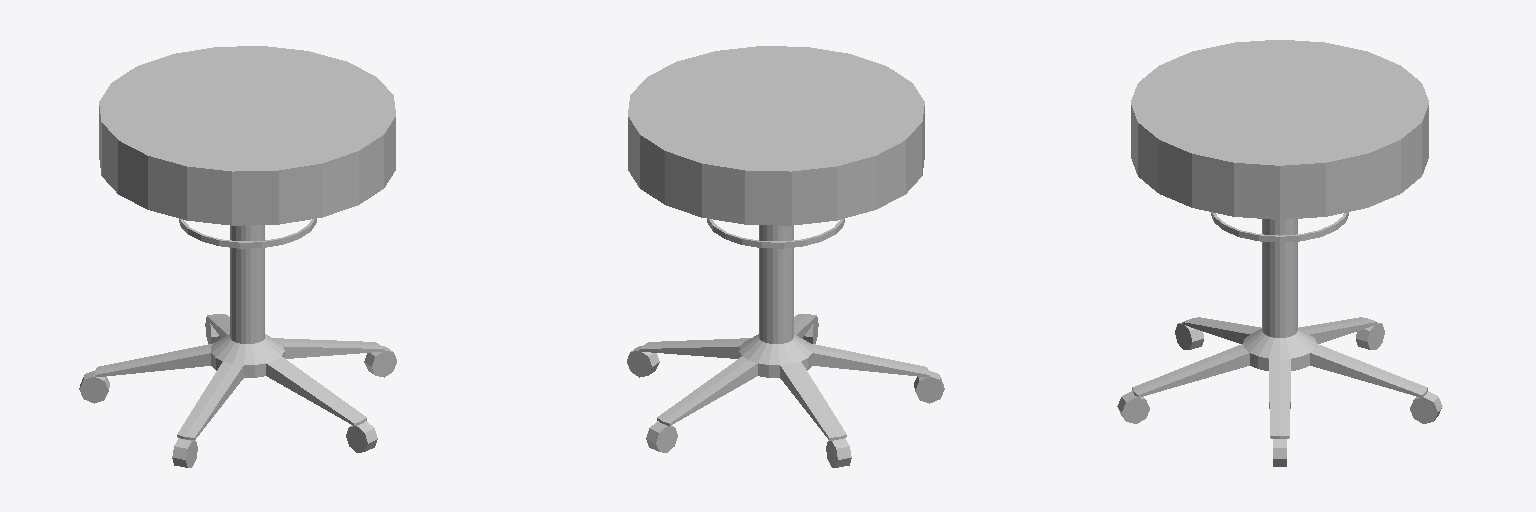
File: chair.obj
The picture shows the model from 3 angles: view 1: azimuth 30°, elevation 25°; view 2: azimuth 150°, elevation 25°; view 3: azimuth 270°, elevation 25°; orthographic projection.
Visible parts, largest first — view 1: Chair_Cylinder; view 2: Chair_Cylinder; view 3: Chair_Cylinder.
Part boxes in pixels (x1,y1,x2,y2): Chair_Cylinder: (79,46,396,467); Chair_Cylinder: (627,46,944,467); Chair_Cylinder: (1117,40,1442,466).
Bounding box in the file's own units: 0.5321 × 0.5511 × 0.5443.